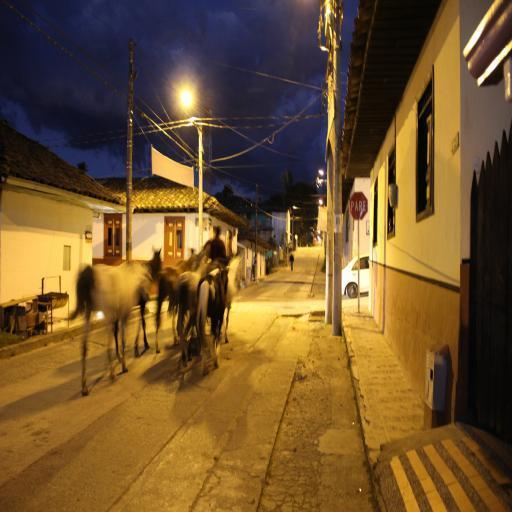horse: (66, 242, 244, 398)
